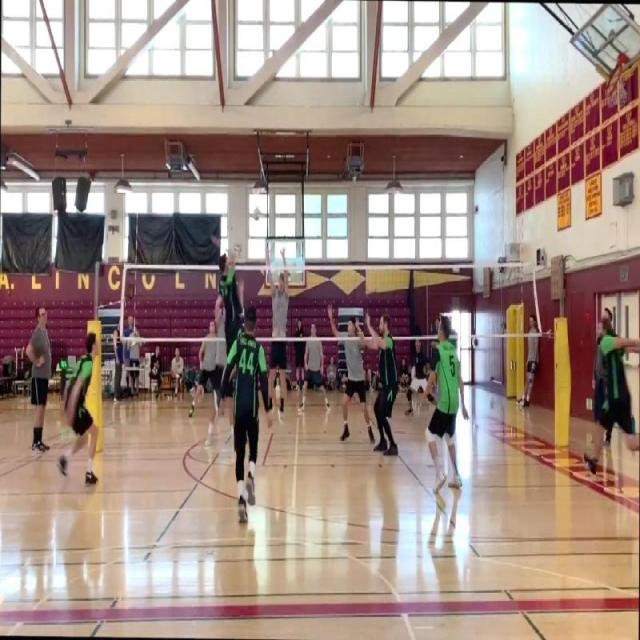volleyball: (253, 206, 259, 220)
